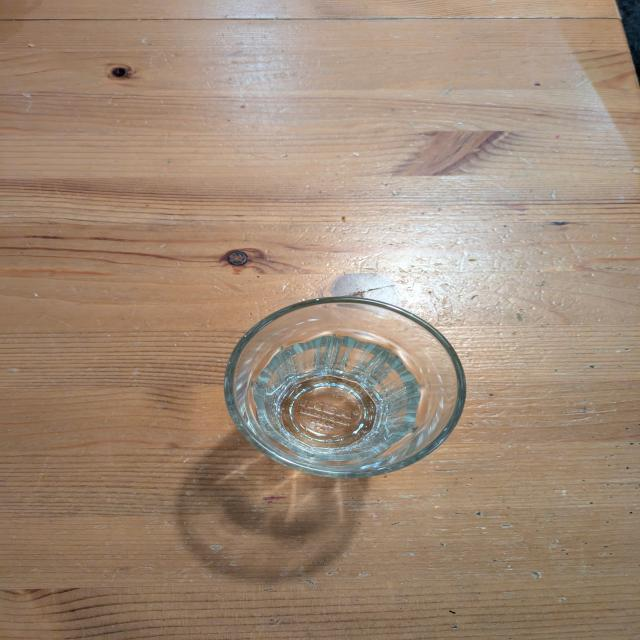ok g1: (224, 294, 468, 483)
